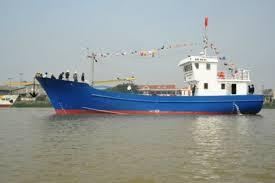Ship: (36, 35, 265, 115)
